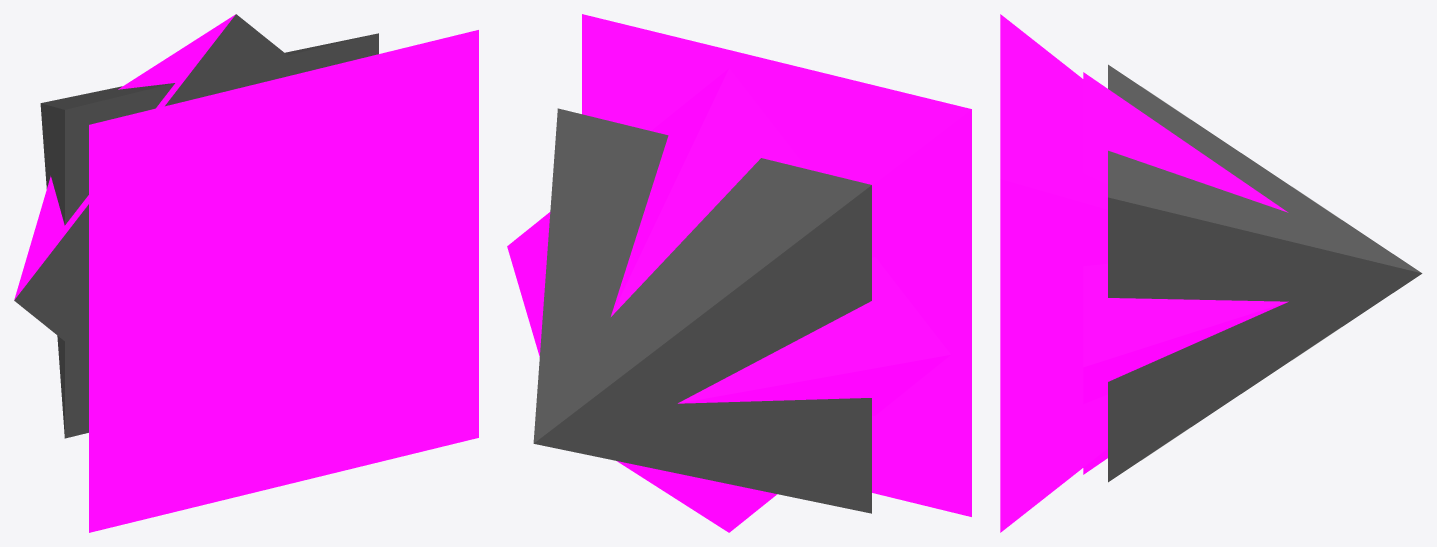
File: Projectile.fbx
The picture shows the model from 3 angles, left to right: view 1: azimuth 30°, elevation 25°; view 2: azimuth 150°, elevation 25°; view 3: azimuth 270°, elevation 25°; orthographic projection. The views are drawn at different scales.
Visible parts, largest first — view 1: Enemy; view 2: Enemy; view 3: Enemy.
Part boxes in pixels (<box>): Enemy: <box>14,14,478,532</box>; Enemy: <box>507,14,971,532</box>; Enemy: <box>1000,14,1422,532</box>.
Bounding box in the file's own units: 121 × 114 × 121.
